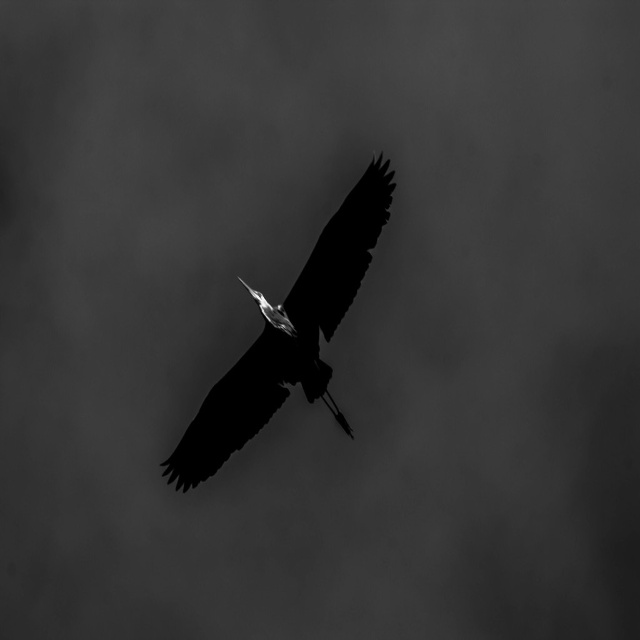Eagle: (160, 146, 402, 501)
